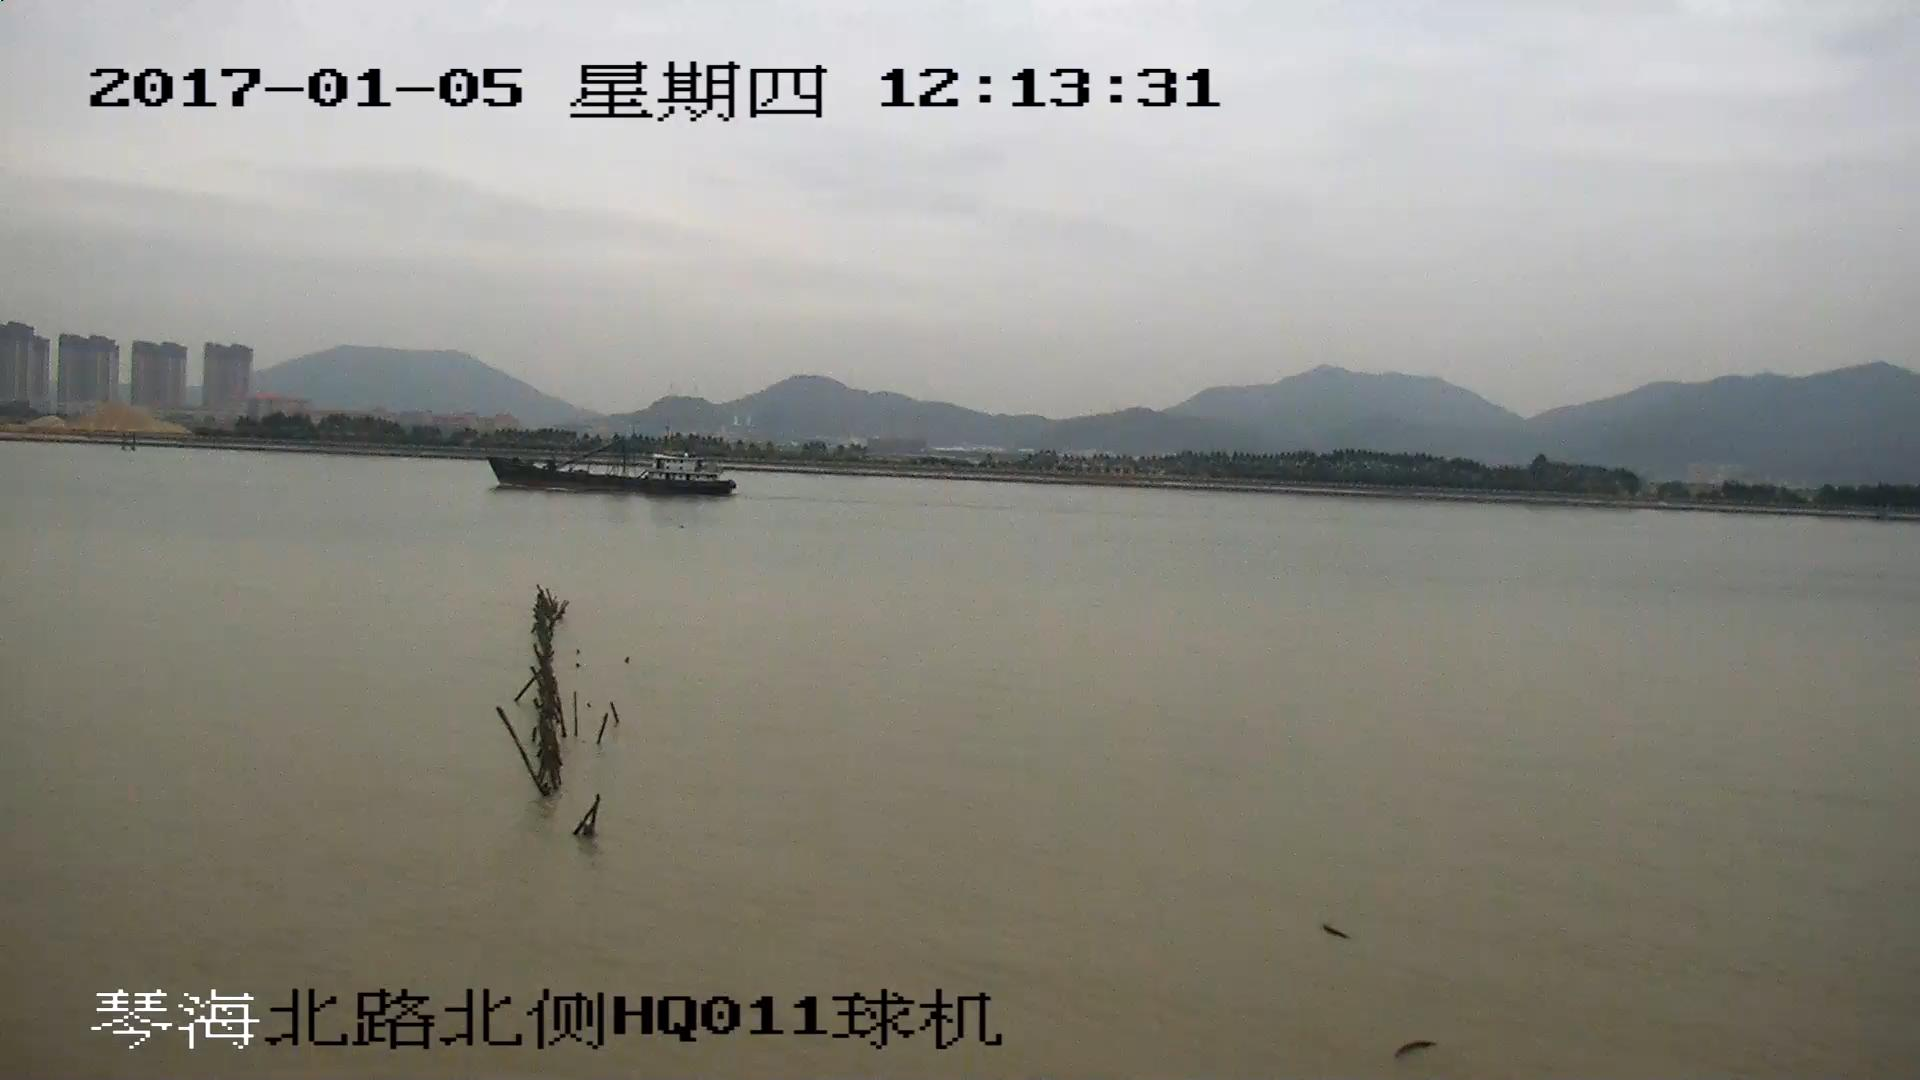fishing boat: (483, 429, 743, 495)
